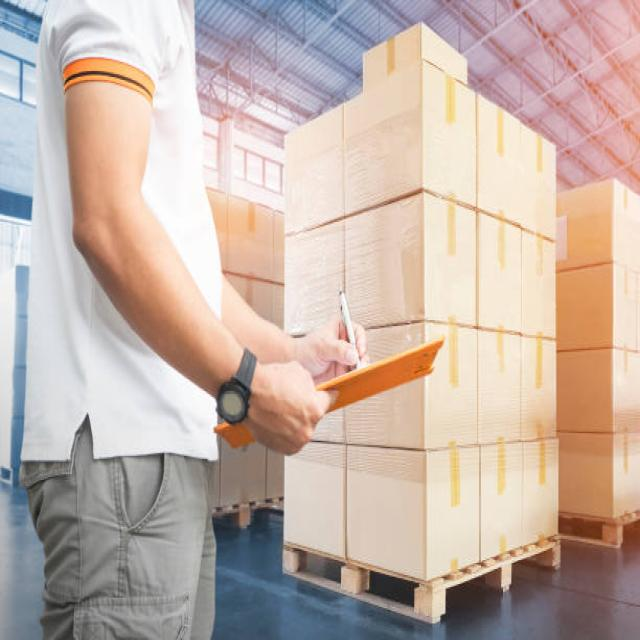Wooden-Pallets: (271, 533, 563, 626)
